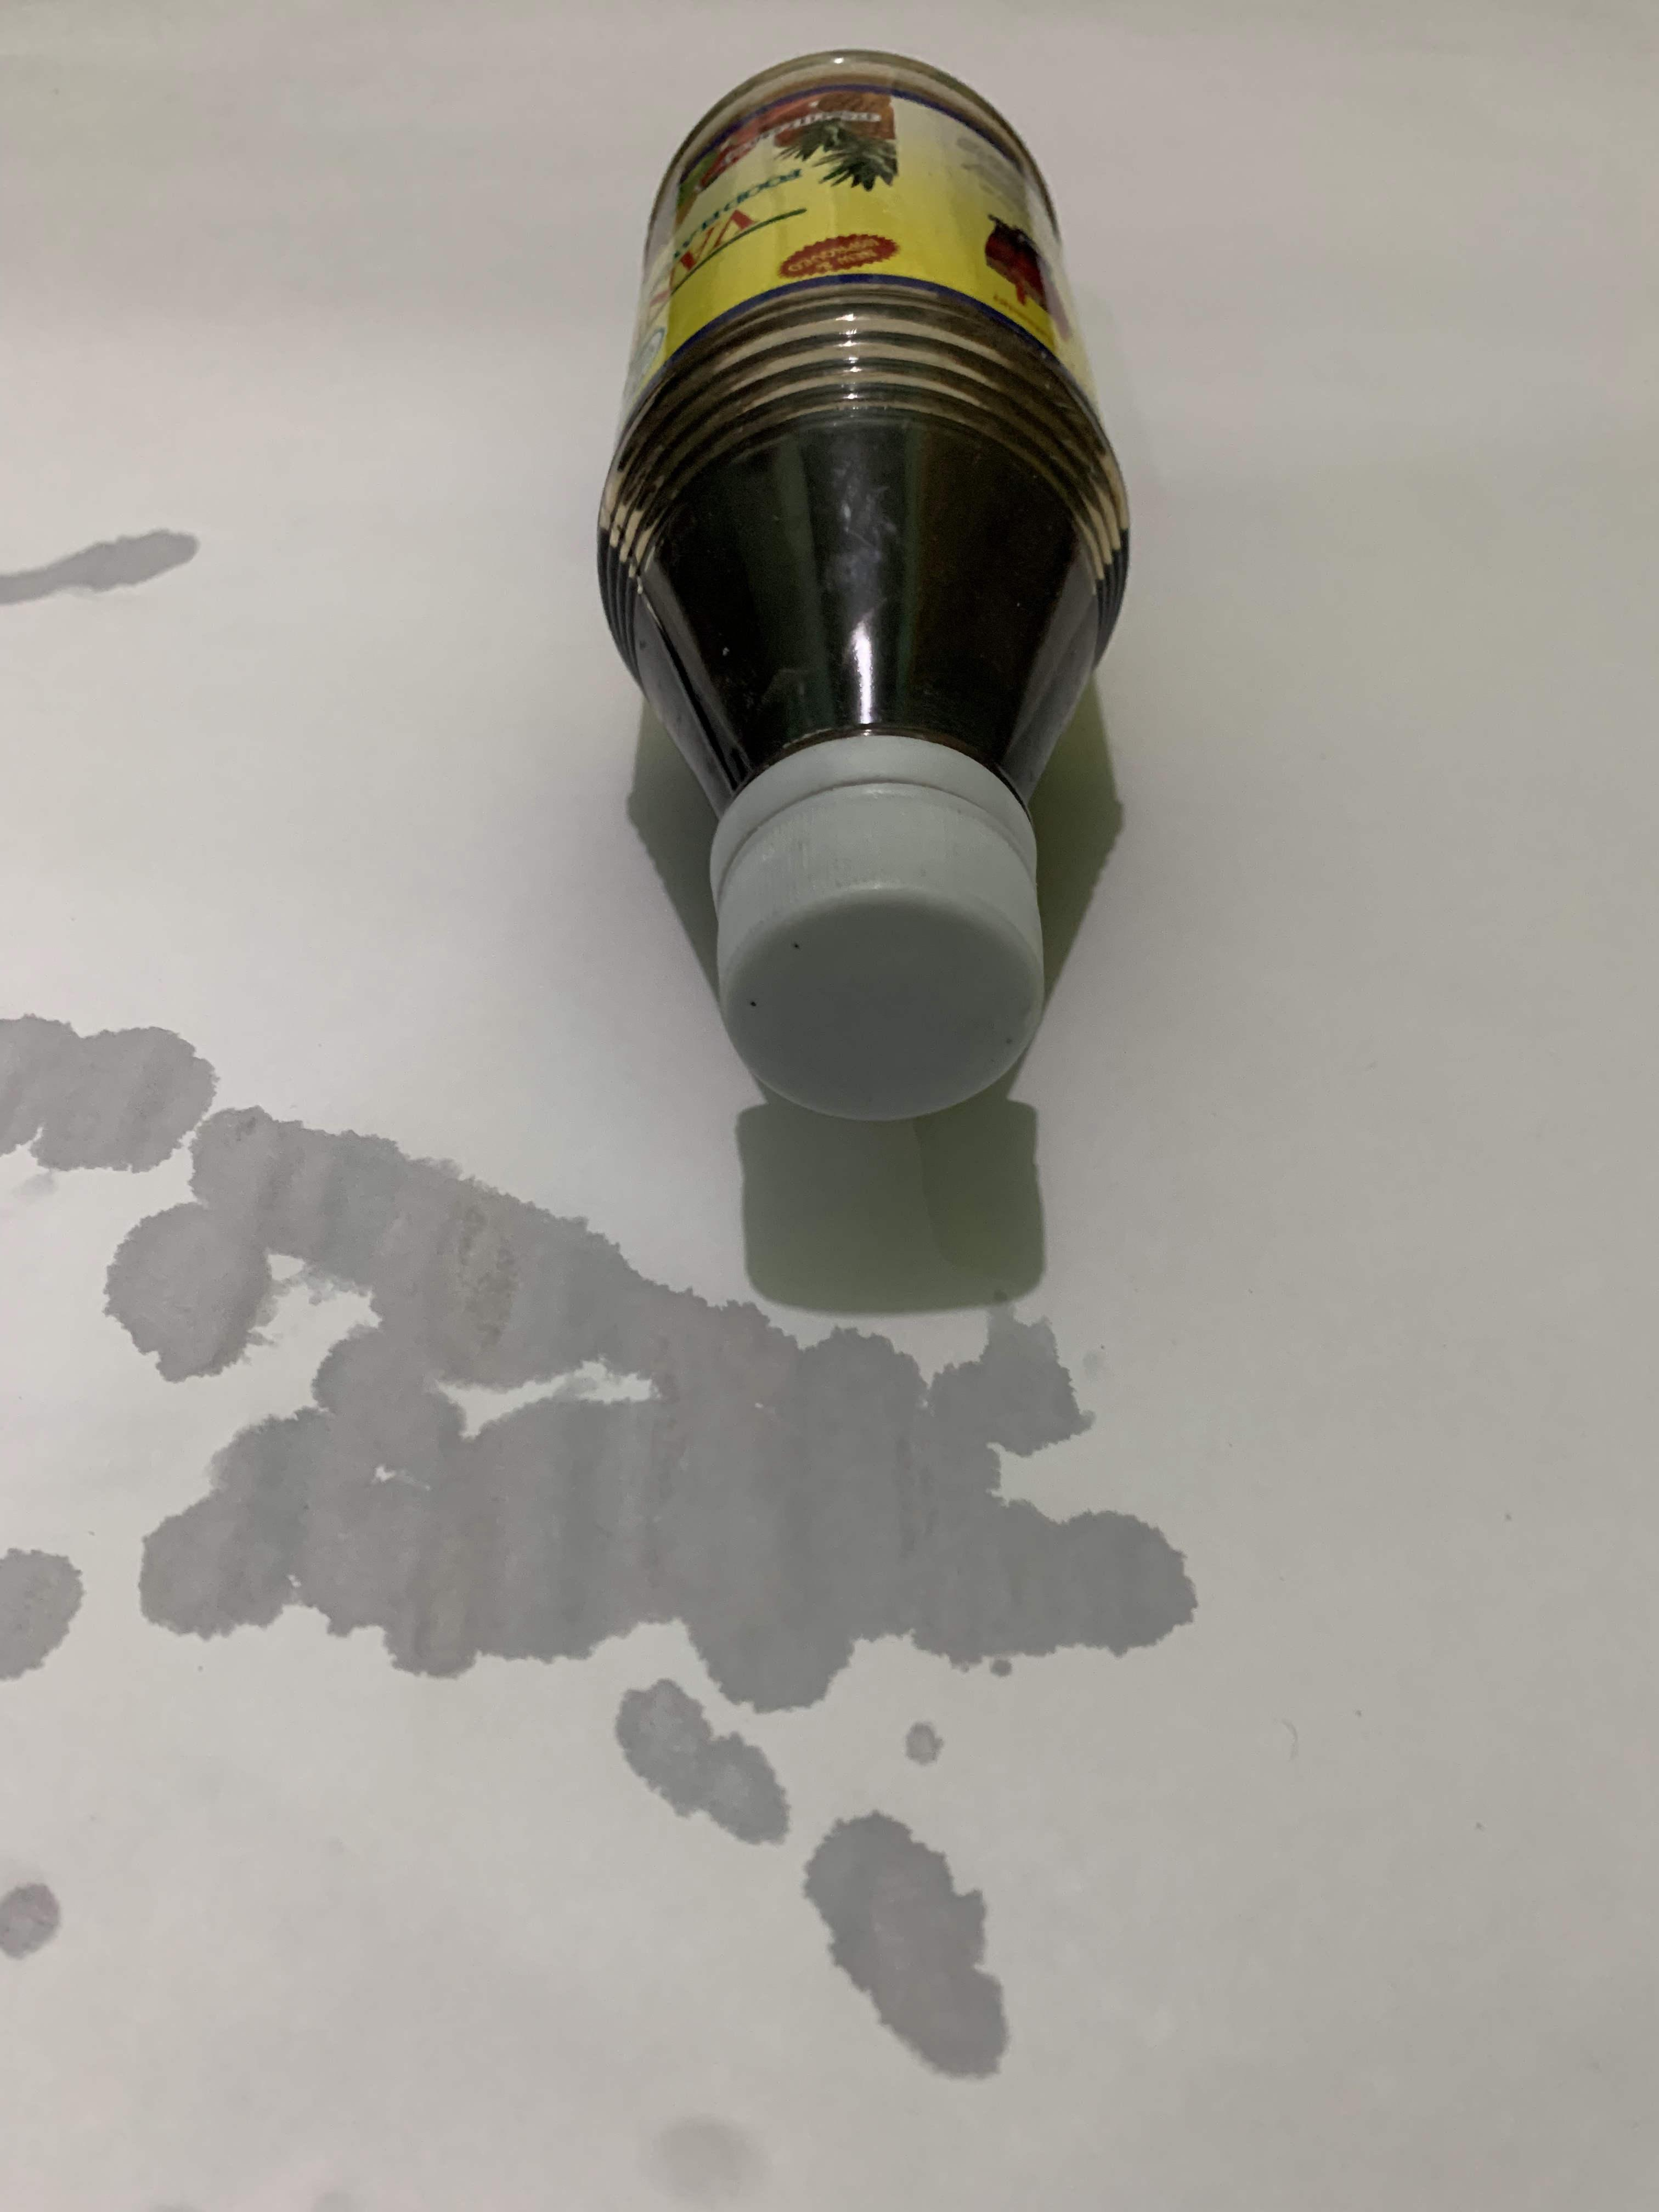bottle: (0, 33, 307, 1130)
